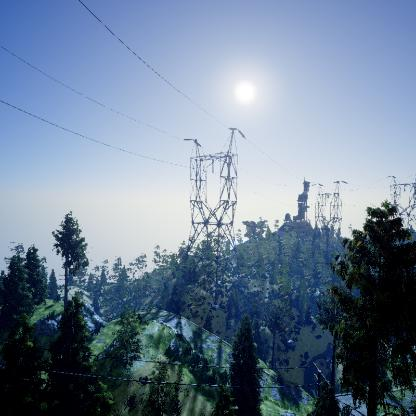tower: (181, 124, 247, 314), (307, 177, 350, 270)
